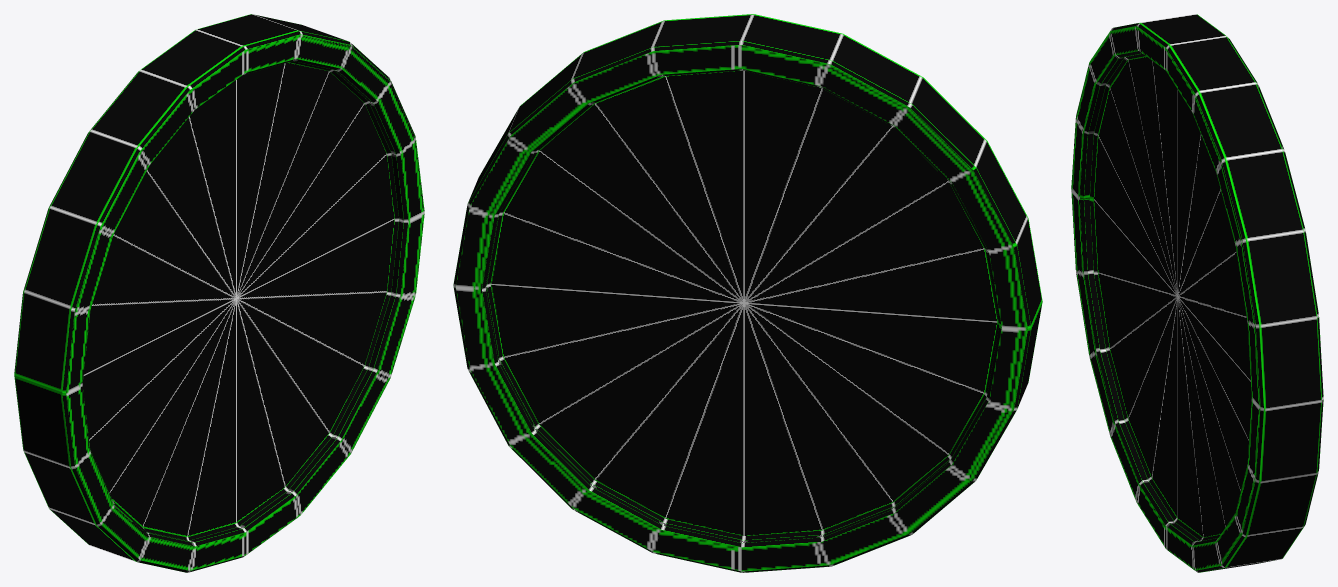
Rendered from coinspinFBX.FBX.
3 views of the same model, side by side, from view 1: azimuth 30°, elevation 25°; view 2: azimuth 150°, elevation 25°; view 3: azimuth 270°, elevation 25° (orthographic). The views are drawn at different scales.
Parts seen in each view (by area): view 1: pCylinder003; view 2: pCylinder003; view 3: pCylinder003.
Part boxes in pixels (x1,y1,x2,y2): pCylinder003: [14, 14, 424, 572]; pCylinder003: [453, 14, 1042, 572]; pCylinder003: [1071, 14, 1323, 572].
Size of the model in its own units: 1.1 by 1.13 by 0.5092.
Materials: 1 (1 with a texture image).
